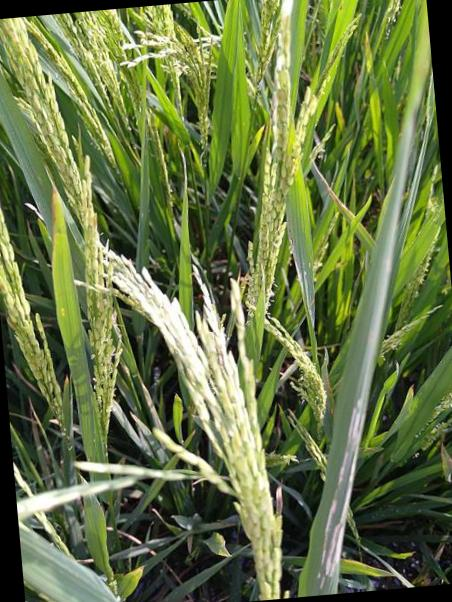Panicle Blight: (217, 345, 230, 376), (275, 482, 284, 519), (7, 315, 17, 331), (0, 278, 8, 295)
